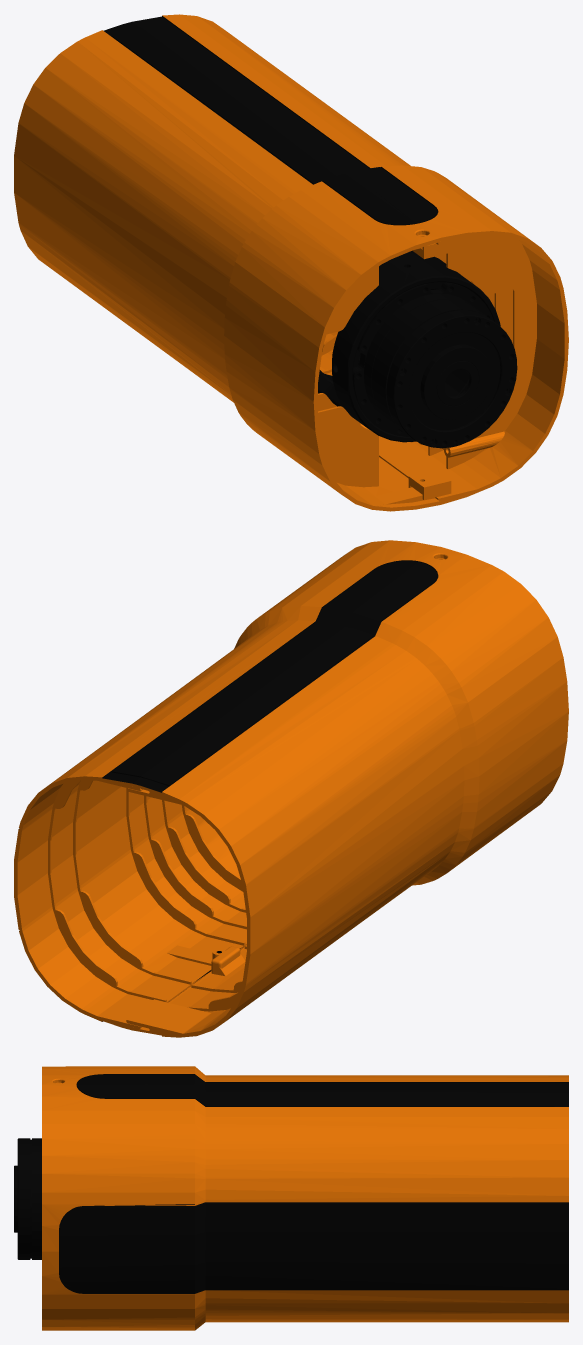
3 renders of one model, top to bottom at view 1: azimuth 30°, elevation 25°; view 2: azimuth 150°, elevation 25°; view 3: azimuth 270°, elevation 25°, orthographic. The views are drawn at different scales.
Parts seen in each view (by area): view 1: link2.002, link2.097, link2.001, link2.009, link2.223; view 2: link2.002, link2.001; view 3: link2.002, link2.001, link2.097.
Boxes of the visible parts, bbox=[...] form: link2.002: bbox=[14, 14, 568, 511]; link2.097: bbox=[352, 282, 517, 448]; link2.001: bbox=[112, 22, 436, 225]; link2.009: bbox=[318, 250, 500, 442]; link2.223: bbox=[436, 361, 478, 406]; link2.002: bbox=[14, 540, 568, 1037]; link2.001: bbox=[112, 560, 436, 786]; link2.002: bbox=[42, 1066, 568, 1330]; link2.001: bbox=[77, 1074, 554, 1106]; link2.097: bbox=[14, 1138, 41, 1259].
Bounding box in the file's own units: 0.2104 × 0.2104 × 0.4649.
